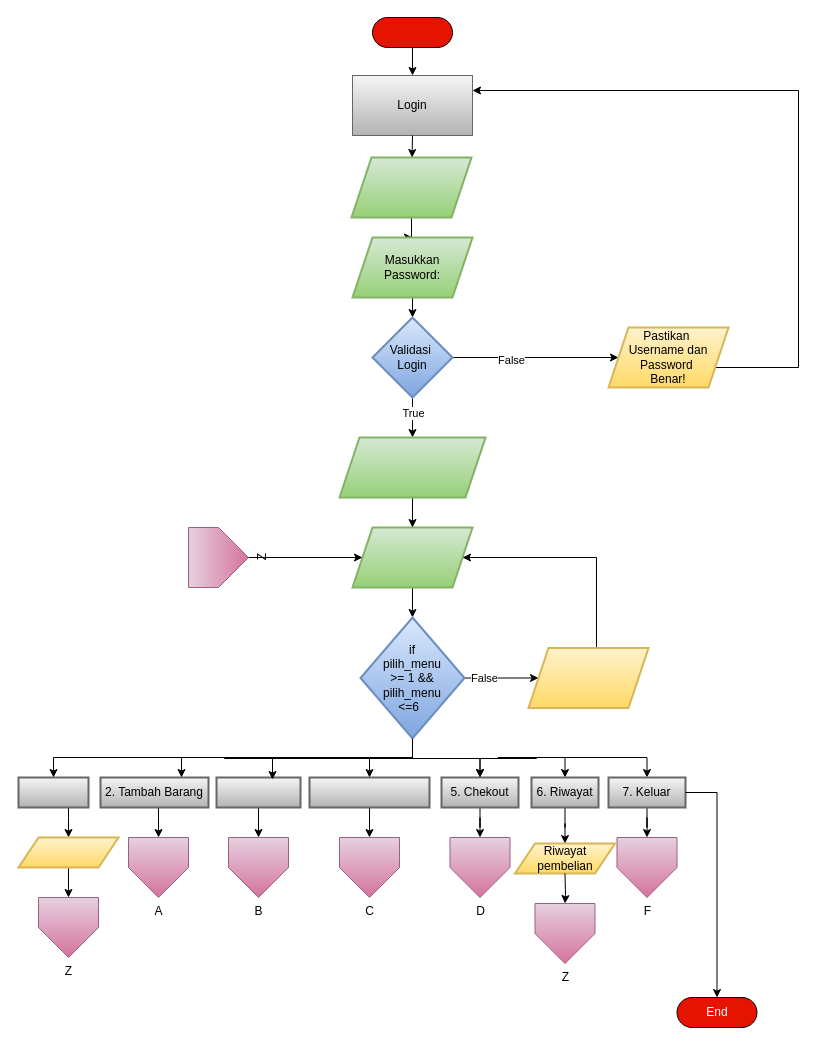
Some shapes in this 824 by 1045 pixel diagram are drawn without their labels. The box of each missing label's shape, as (x1, y1, x2, y2) in pixels:
1. Lihat Stok: (17, 776, 89, 808)
3. Edit Barang: (215, 776, 301, 808)
4. Hapus Barang: (308, 776, 430, 808)
Daftar Stok Barang: (17, 836, 119, 868)
Masukkan Nama Lengkap Karyawan: (338, 436, 486, 498)
Masukkan Username:: (350, 156, 472, 218)
pilih_menu: (351, 526, 473, 588)
Pilihan tidak valid!: (527, 646, 649, 708)
Start: (372, 16, 452, 48)
